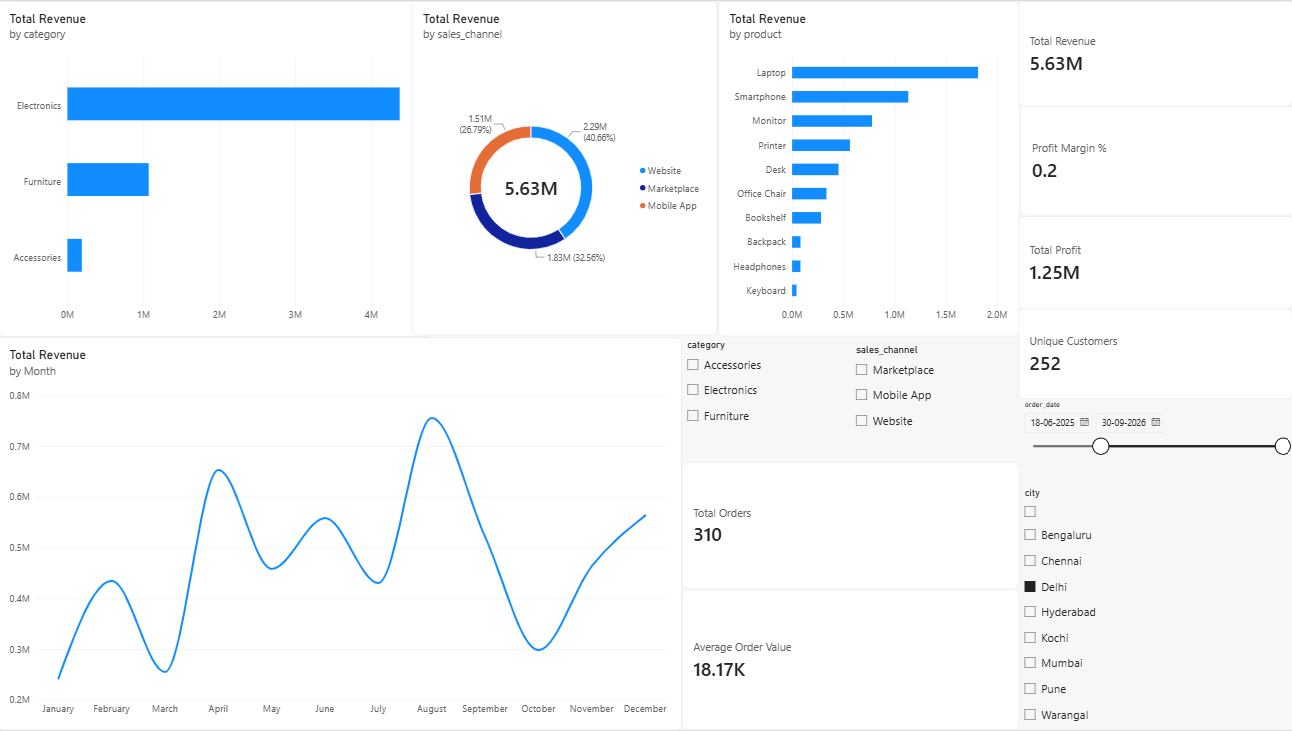

The page's visual inventory and layout, read from the dashboard file:
{"tool":"powerbi","page":{"name":"Page 1","canvas":[1920,1080],"ordinal":0},"visuals":[{"type":"cardVisual","fields":{"Data":["ecommerce_sales.Total Revenue"]},"box":[1512,0,408,156],"z":1},{"type":"cardVisual","fields":{"Data":["ecommerce_sales.Total Profit"]},"box":[1512,318,408,138],"z":3},{"type":"cardVisual","fields":{"Data":["ecommerce_sales.Total Orders"]},"box":[1013.3,683.3,500,187.5],"z":4},{"type":"cardVisual","fields":{"Data":["ecommerce_sales.Unique Customers"]},"box":[1512,456,408,134],"z":5},{"type":"cardVisual","fields":{"Data":["ecommerce_sales.Average Order Value"]},"box":[1012.5,872.5,500,207.5],"z":6},{"type":"lineChart","fields":{"Category":["ecommerce_sales.order_date.Variation.Date Hierarchy.Month"],"Y":["ecommerce_sales.Total Revenue"]},"box":[0,497.5,1012.5,582.5],"z":7},{"type":"clusteredBarChart","fields":{"Category":["ecommerce_sales.category"],"Y":["ecommerce_sales.Total Revenue"]},"box":[0,0,637.5,497.5],"z":8},{"type":"donutChart","fields":{"Category":["ecommerce_sales.sales_channel"],"Y":["ecommerce_sales.Total Revenue"]},"box":[612.5,0,452.5,495],"z":9},{"type":"slicer","fields":{"Values":["ecommerce_sales.category"]},"box":[1013.3,500,250,186.7],"z":10},{"type":"slicer","fields":{"Values":["ecommerce_sales.city"]},"box":[1512.5,720,407.5,360],"z":11},{"type":"slicer","fields":{"Values":["ecommerce_sales.sales_channel"]},"box":[1263.3,506.7,250,170],"z":12},{"type":"slicer","fields":{"Values":["ecommerce_sales.order_date"]},"box":[1512.5,590,407.5,92.5],"z":13},{"type":"clusteredBarChart","fields":{"Category":["ecommerce_sales.product"],"Y":["ecommerce_sales.Total Revenue"]},"box":[1066.7,0,446.7,496.7],"z":14},{"type":"cardVisual","fields":{"Data":["ecommerce_sales.Profit Margin %"]},"box":[1514,156,406,162],"z":15}]}

Visuals, with their boxes in screenshot pixels (x1, y1, x2, y2), scaled from the page's 1920x1080 canvas onto the 1292x731 screenshot:
cardVisual - ecommerce_sales.Total Revenue: 1017,0,1291,106
cardVisual - ecommerce_sales.Total Profit: 1017,215,1291,309
cardVisual - ecommerce_sales.Total Orders: 682,462,1018,589
cardVisual - ecommerce_sales.Unique Customers: 1017,309,1291,399
cardVisual - ecommerce_sales.Average Order Value: 681,591,1018,730
lineChart - ecommerce_sales.order_date.Variation.Date Hierarchy.Month x ecommerce_sales.Total Revenue: 0,337,681,730
clusteredBarChart - ecommerce_sales.category x ecommerce_sales.Total Revenue: 0,0,429,337
donutChart - ecommerce_sales.sales_channel x ecommerce_sales.Total Revenue: 412,0,717,335
slicer - ecommerce_sales.category: 682,338,850,465
slicer - ecommerce_sales.city: 1018,487,1291,730
slicer - ecommerce_sales.sales_channel: 850,343,1018,458
slicer - ecommerce_sales.order_date: 1018,399,1291,462
clusteredBarChart - ecommerce_sales.product x ecommerce_sales.Total Revenue: 718,0,1018,336
cardVisual - ecommerce_sales.Profit Margin %: 1019,106,1291,215
